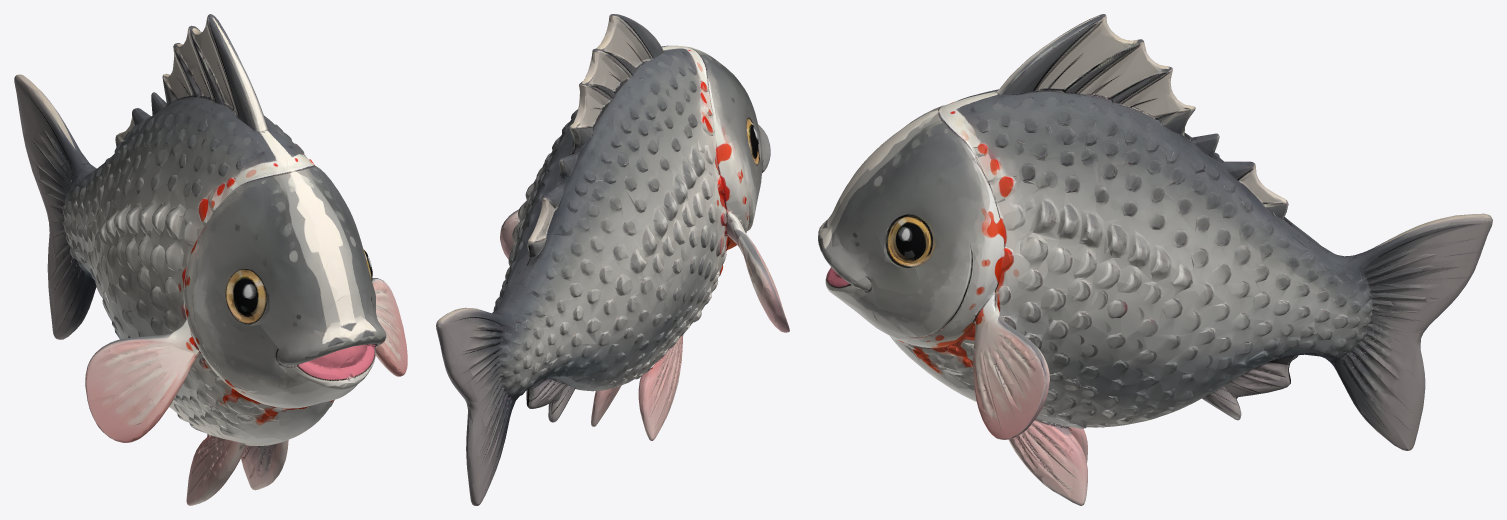
Rendered from big-fish.glb.
3 views of the same model, side by side, from view 1: azimuth 30°, elevation 25°; view 2: azimuth 150°, elevation 25°; view 3: azimuth 270°, elevation 25° (orthographic). The views are drawn at different scales.
Bounding box in the file's own units: 1.02 × 1.48 × 1.9.
1 material, 1 textured.
